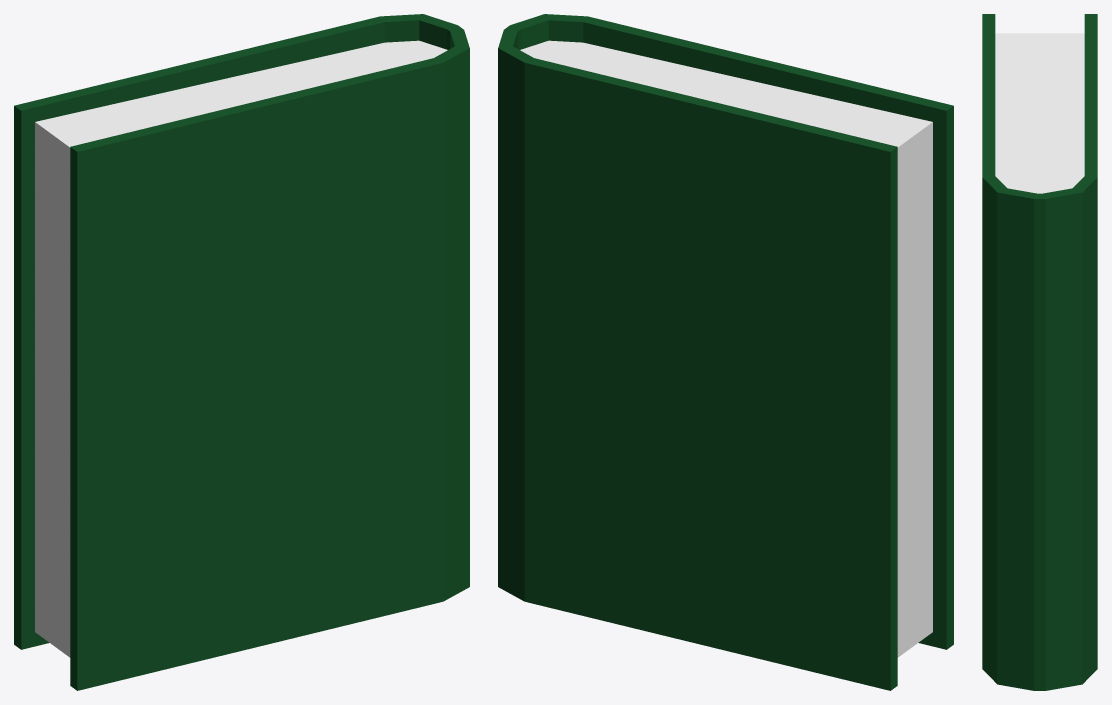
The model's file is Book.fbx.
The picture shows the model from 3 angles, left to right: view 1: azimuth 30°, elevation 25°; view 2: azimuth 150°, elevation 25°; view 3: azimuth 270°, elevation 25°; orthographic projection. The views are drawn at different scales.
Visible parts, largest first — view 1: Cube; view 2: Cube; view 3: Cube.
Boxes of the visible parts, bbox=[...] form: Cube: bbox=[14, 14, 469, 690]; Cube: bbox=[498, 14, 953, 690]; Cube: bbox=[982, 14, 1097, 690].
Bounding box in the file's own units: 21.2 × 26.29 × 5.59.
